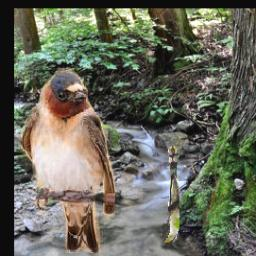Cuckoo: (162, 146, 179, 242)
Swallow: (21, 69, 115, 254)
